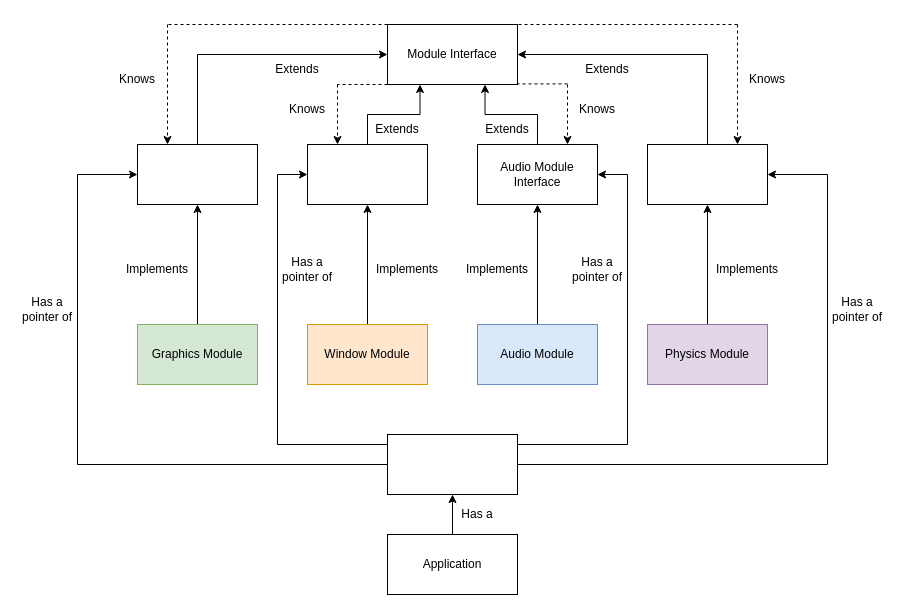
The diagram is 904 pixels wide and 612 high, and some of its shapes have lost their labels. The shapes that lost their labels are listed below. From the top down, each one's box as (x1, y1, x2, y2) in pixels, then its label:
(136, 144, 258, 204): Graphics Module Interface
(306, 144, 428, 204): Window Module Interface
(646, 144, 768, 204): Physics Module Interface
(386, 434, 518, 494): Core
